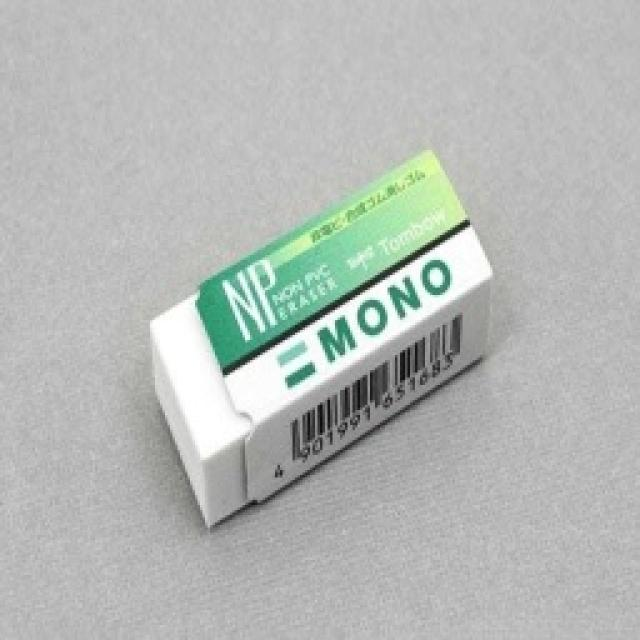Silgi: (144, 149, 495, 532)
